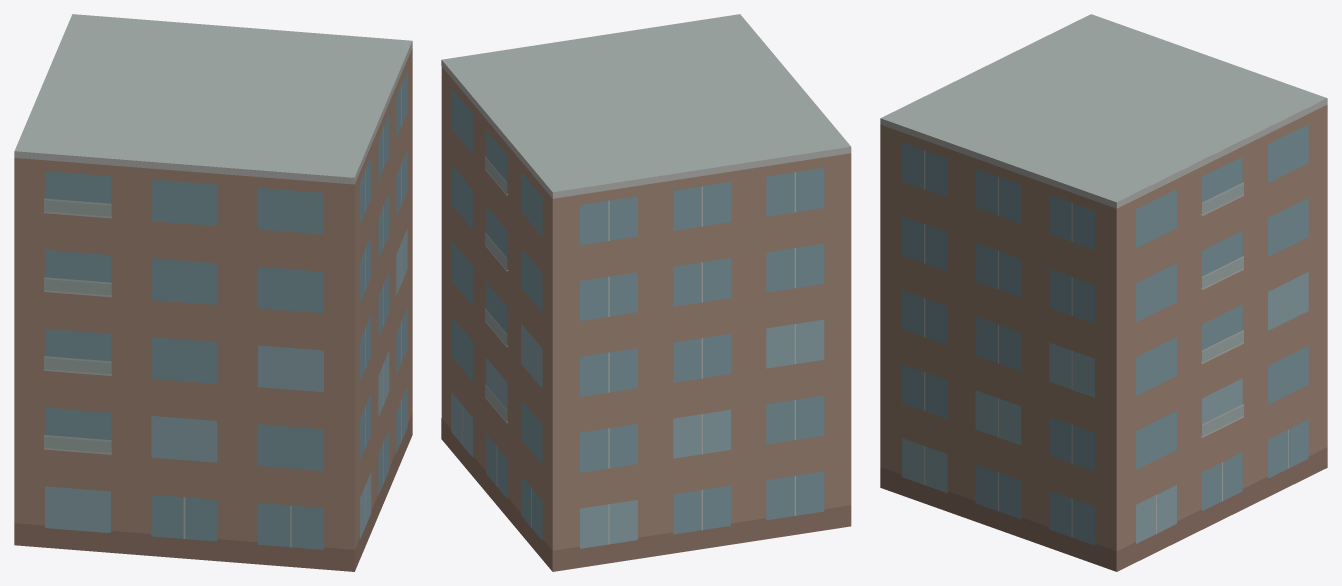
Rendered from survey-upis-32695735.glb.
The picture shows the model from 3 angles, left to right: view 1: azimuth 30°, elevation 25°; view 2: azimuth 150°, elevation 25°; view 3: azimuth 270°, elevation 25°; orthographic projection. The views are drawn at different scales.
Visible parts, largest first — view 1: survey-upis-32695735.tmp; view 2: survey-upis-32695735.tmp; view 3: survey-upis-32695735.tmp.
Part boxes in pixels (box(x1,y1,x2,y2)): survey-upis-32695735.tmp: box(14, 14, 412, 571); survey-upis-32695735.tmp: box(441, 14, 851, 571); survey-upis-32695735.tmp: box(880, 14, 1327, 571).
Size of the model in its own units: 15.76 by 14.4 by 15.8.
